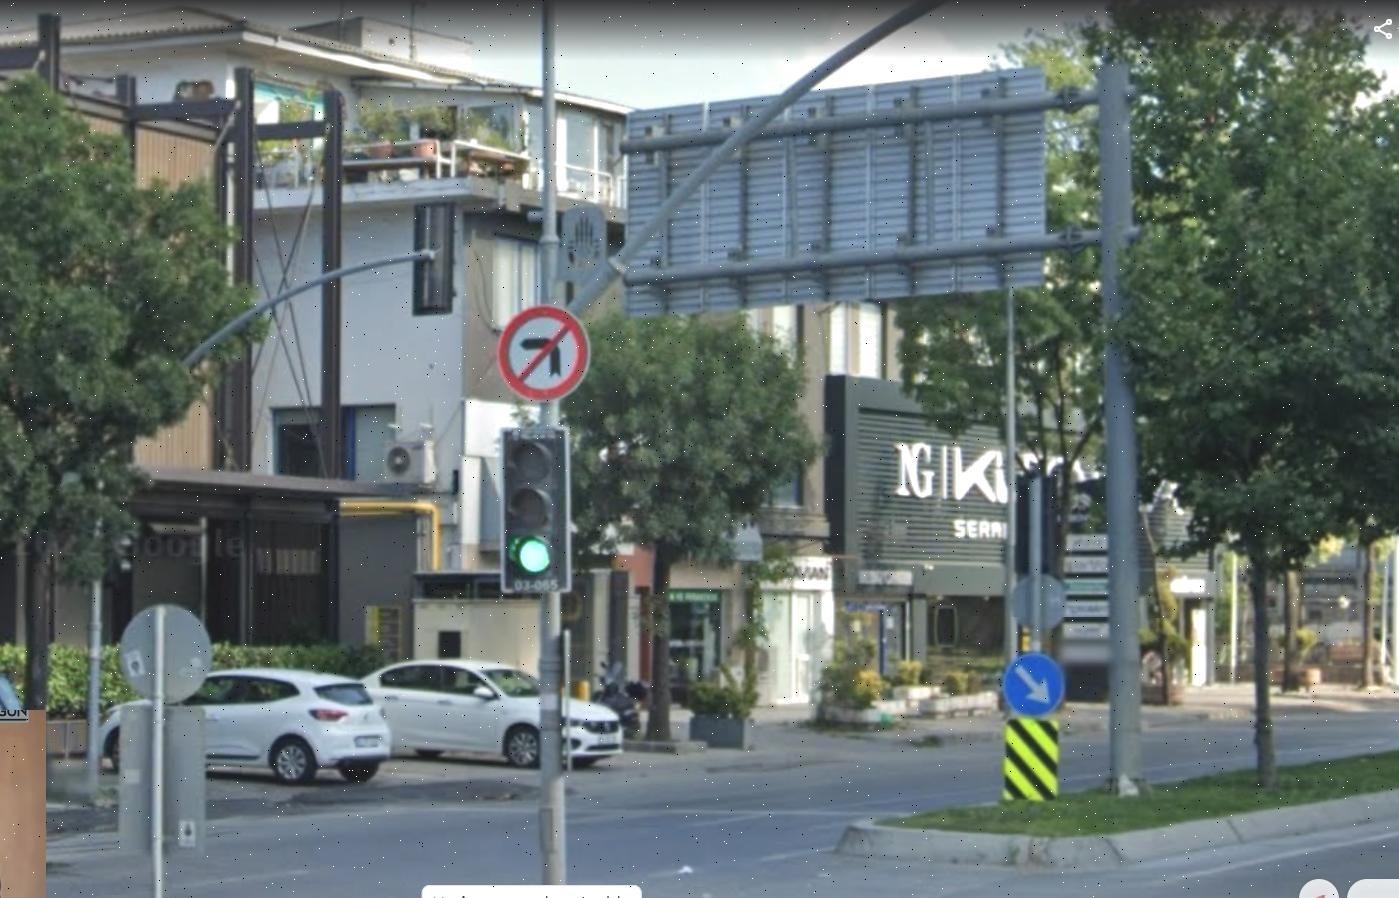greenlight: (504, 427, 574, 591)
leftturnsareforbidden: (494, 304, 586, 395)
